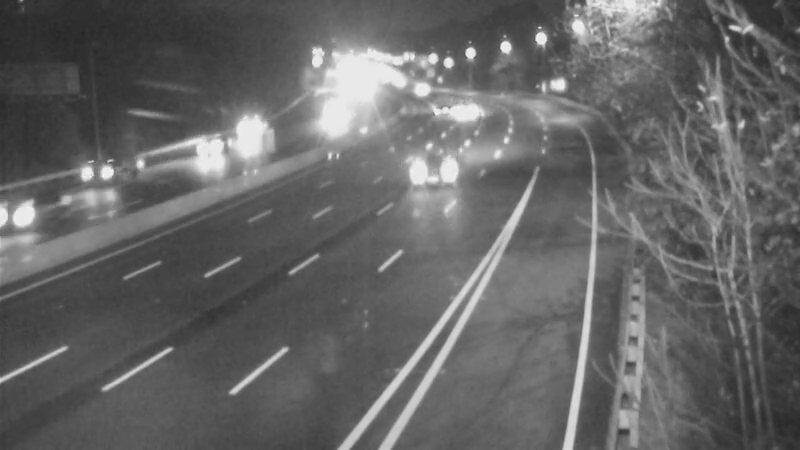vehicle: (396, 130, 476, 210), (57, 130, 137, 210), (162, 113, 242, 193), (1, 180, 70, 260), (415, 76, 465, 126), (439, 86, 489, 136), (223, 113, 273, 163), (308, 89, 358, 139)
